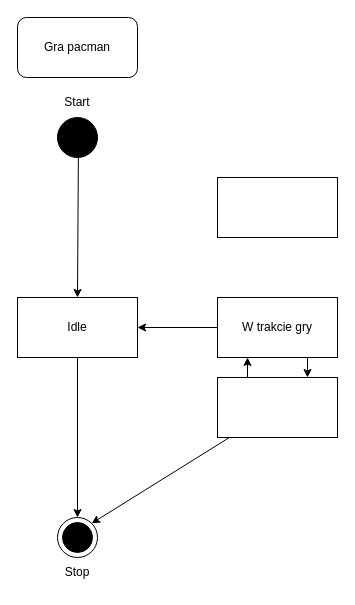
Some shapes in this 355 by 605 pixel diagram are drawn without their labels. The shapes that lost their labels are listed below. From the top down, each one's centre as x and y in pixels, then its label:
At [277,207]: "W trakcie animacji?".
At [277,407]: "Zpauzowana".
